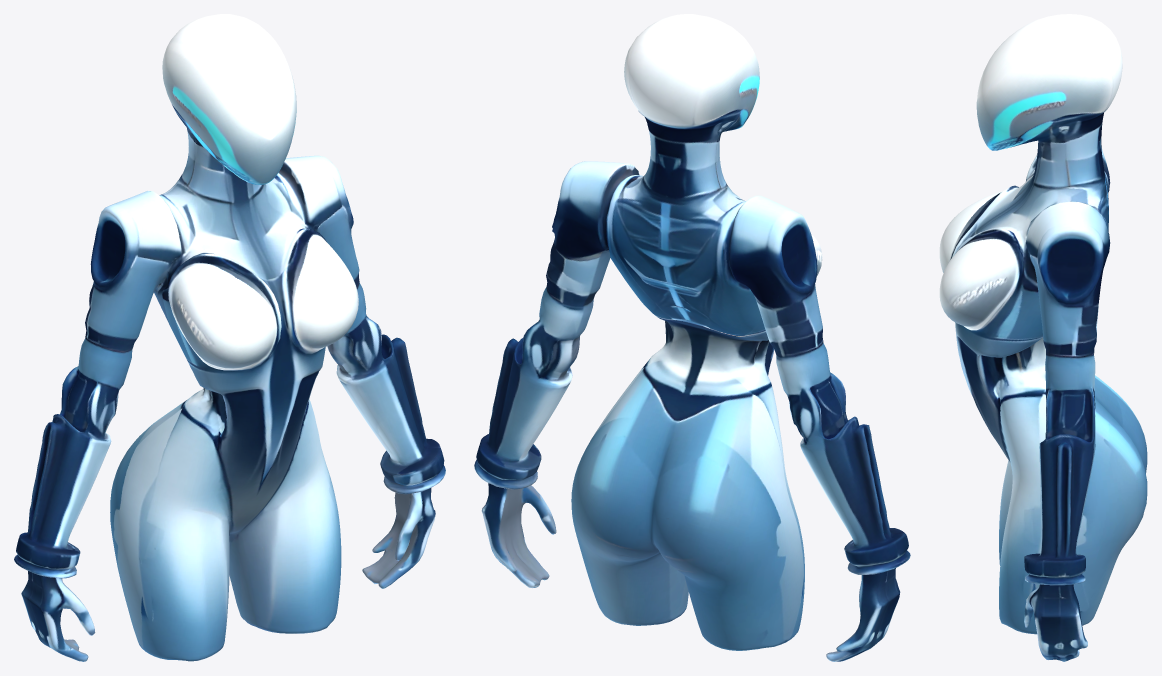
The model's file is robot.glb.
3 renders of one model, left to right at view 1: azimuth 30°, elevation 25°; view 2: azimuth 150°, elevation 25°; view 3: azimuth 270°, elevation 25°, orthographic. The views are drawn at different scales.
Visible parts, largest first — view 1: Object_2; view 2: Object_2; view 3: Object_2.
Part boxes in pixels (x1=…): Object_2: x1=14, y1=14, x2=445, y2=661; Object_2: x1=474, y1=14, x2=910, y2=661; Object_2: x1=939, y1=14, x2=1147, y2=661.
Bounding box in the file's own units: 1.4 × 1.9 × 0.6271.
1 material, 1 textured.
